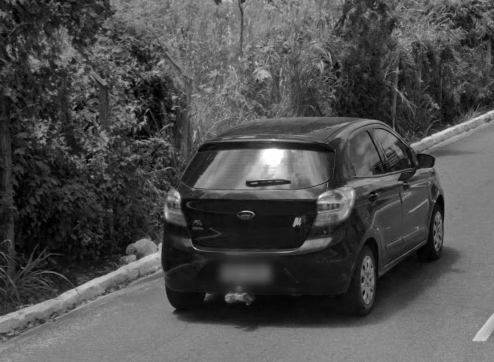car: (160, 113, 449, 317)
